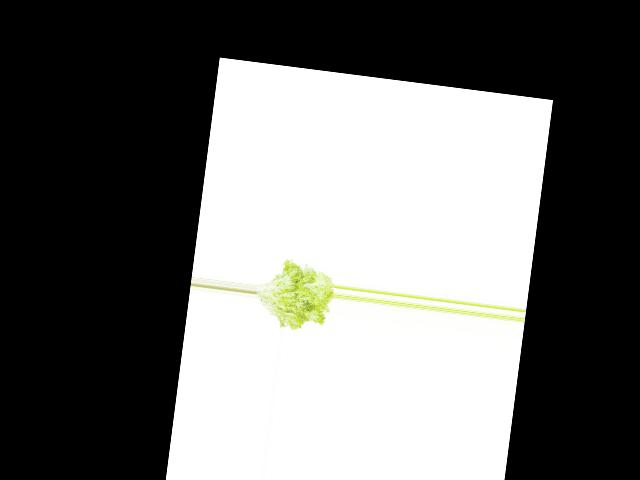lettuce: (250, 255, 337, 337)
